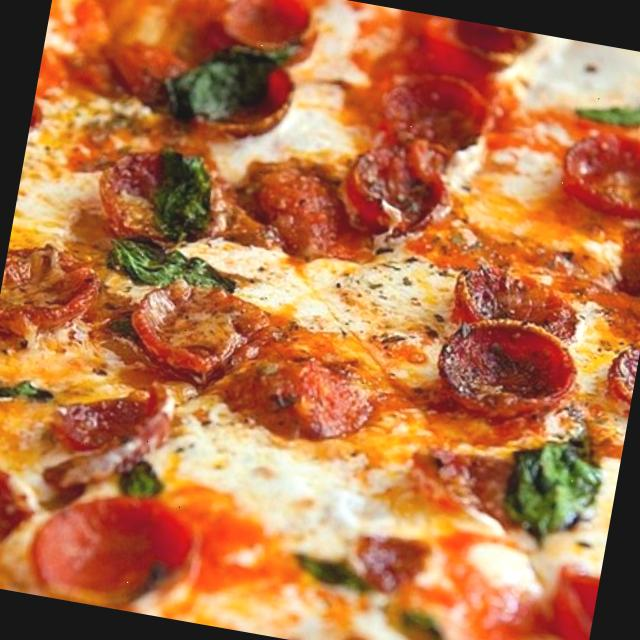basil: (500, 430, 604, 541), (164, 38, 270, 123), (104, 232, 234, 298), (144, 142, 218, 243), (572, 84, 640, 136), (114, 455, 172, 503), (0, 368, 57, 411)
pepperoni: (28, 481, 200, 620), (426, 310, 578, 427), (232, 161, 391, 269), (36, 378, 170, 504), (332, 124, 460, 246), (126, 275, 273, 381), (92, 144, 235, 252), (173, 41, 293, 148), (0, 238, 103, 350), (446, 262, 584, 342), (272, 350, 386, 446), (378, 64, 496, 156), (205, 0, 325, 67), (553, 128, 640, 220), (0, 459, 35, 591), (613, 220, 640, 299)
